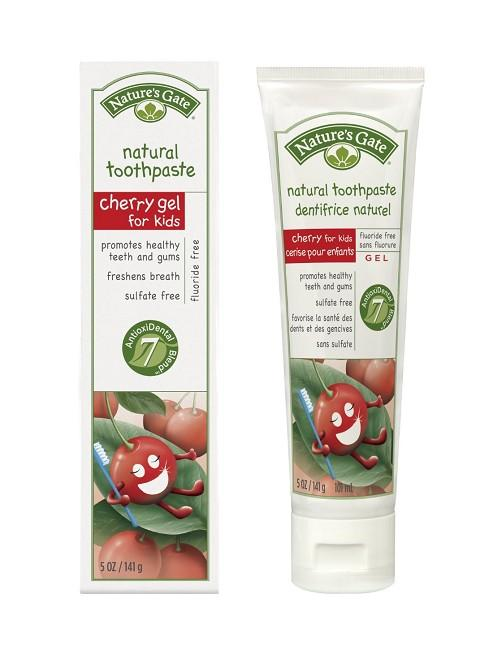toothpaste: (249, 52, 439, 592)
